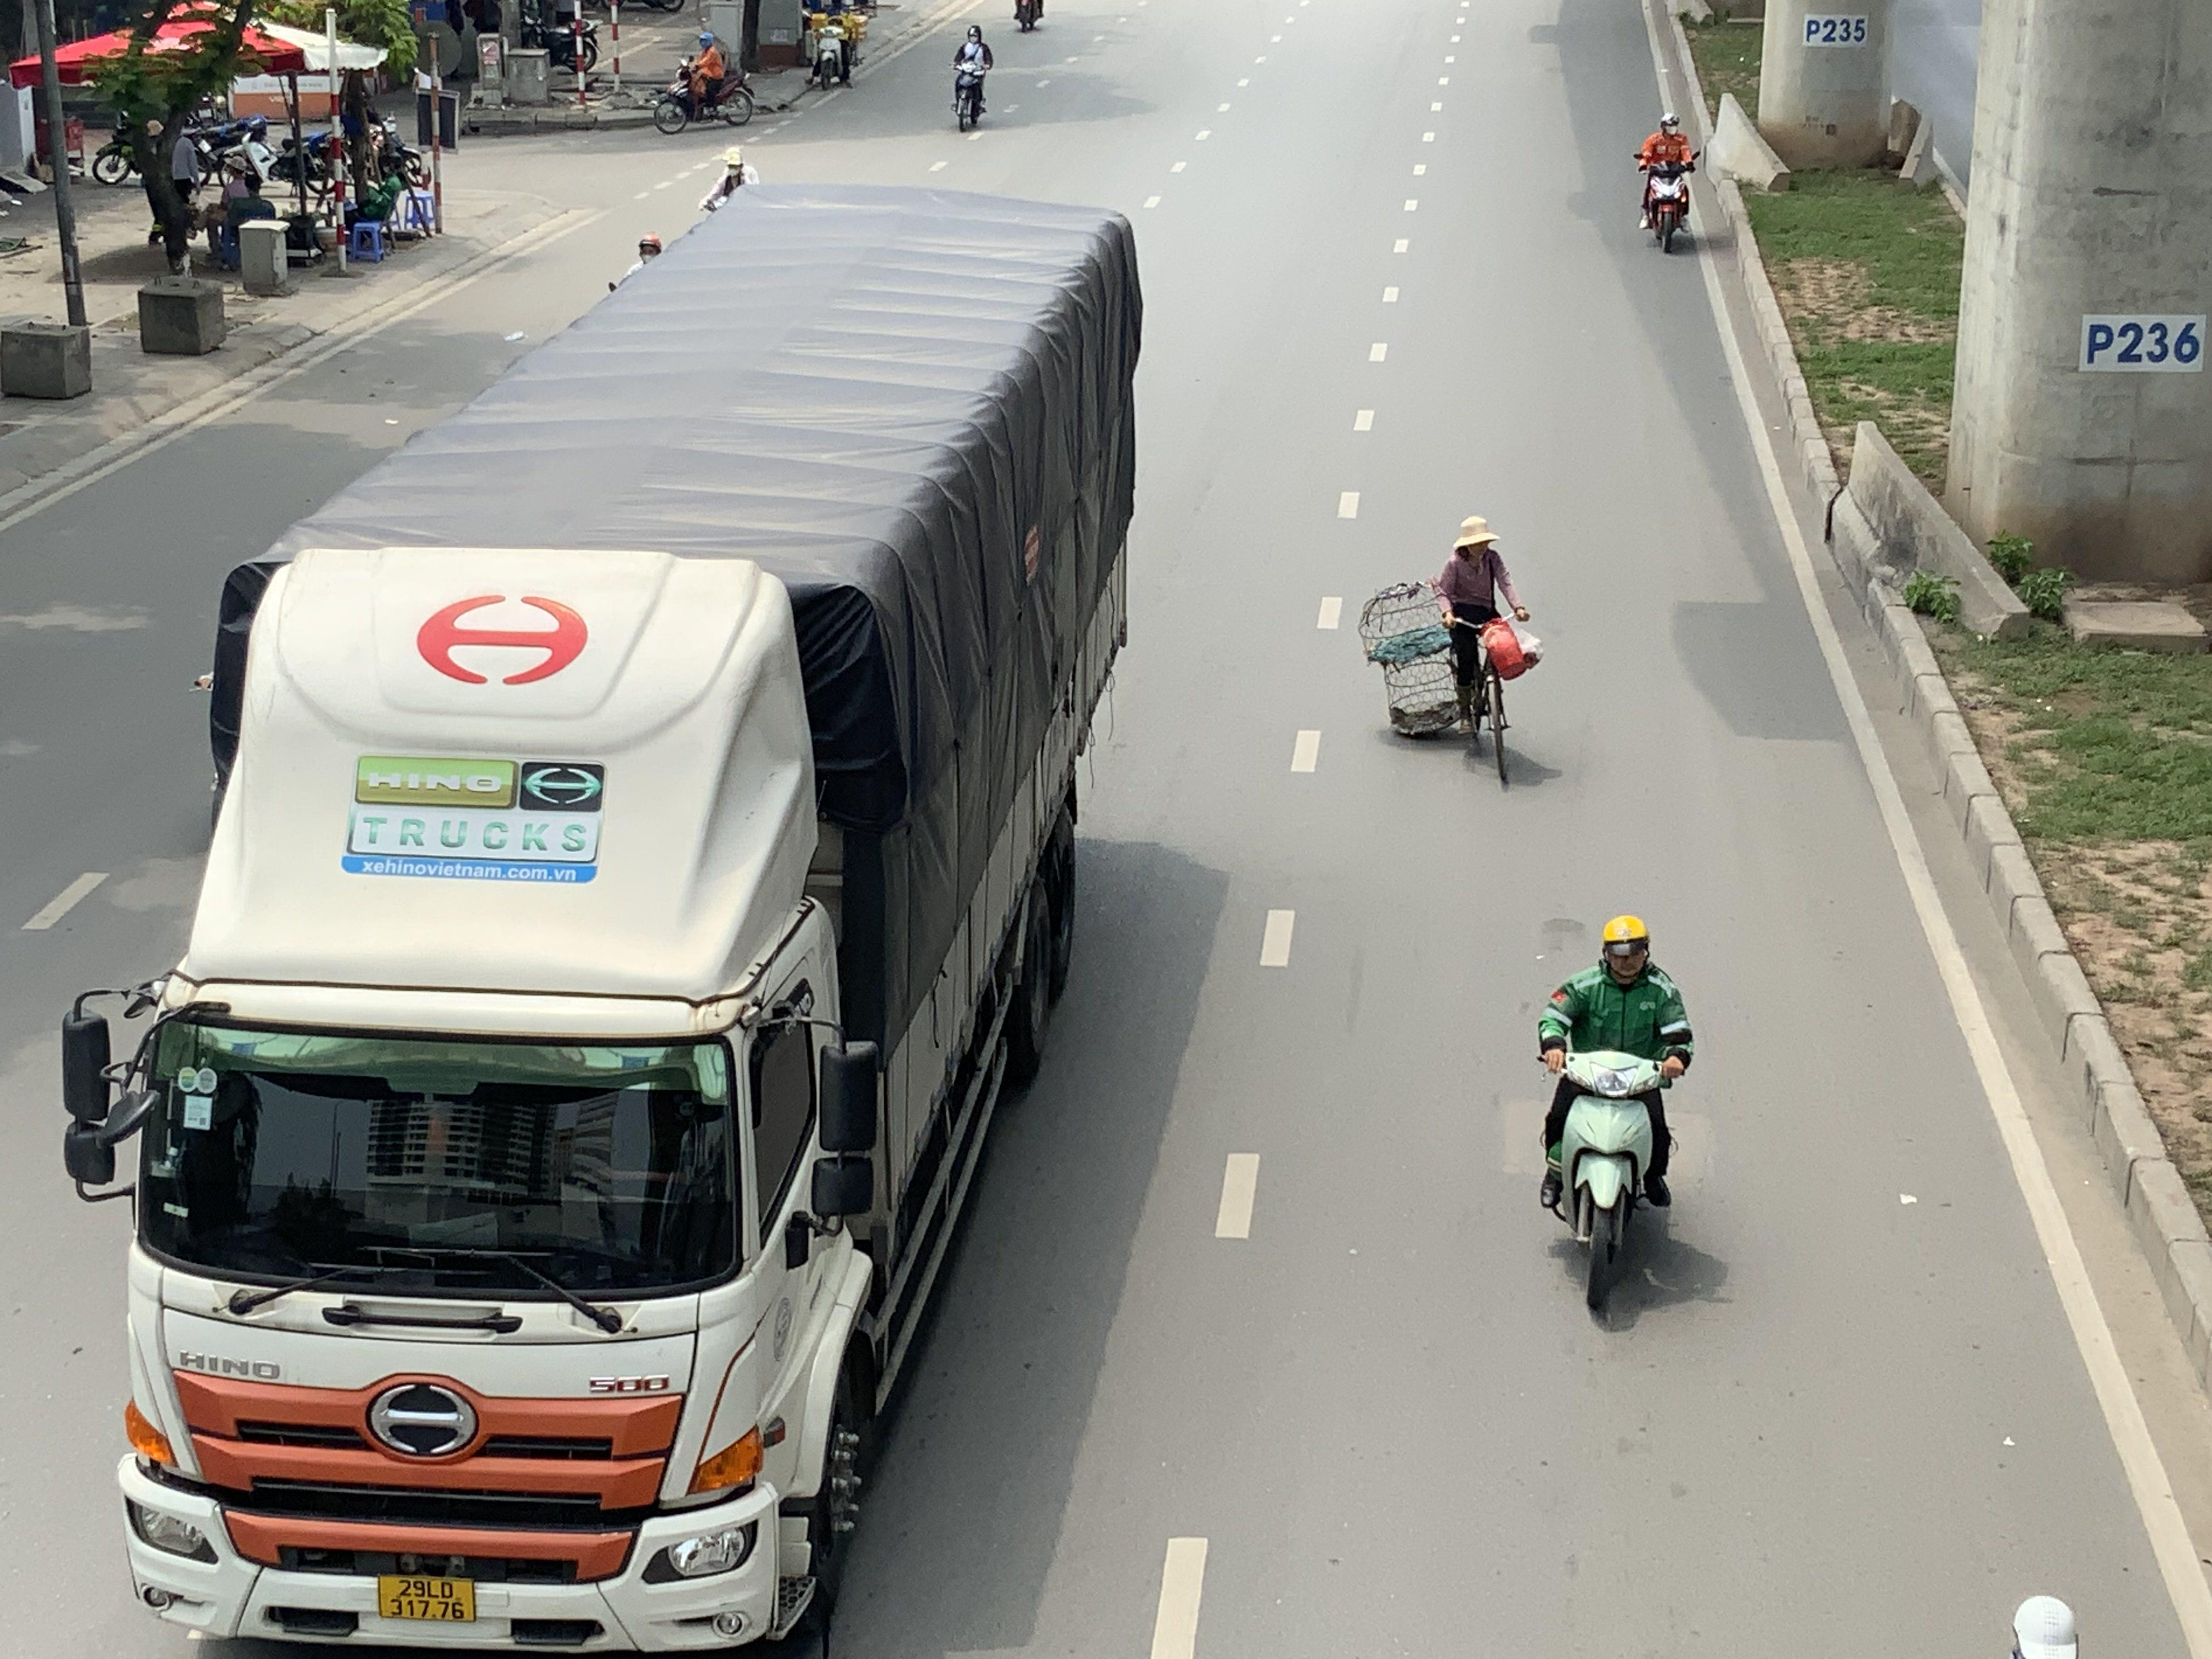BSV: (376, 1575, 477, 1622)
motorbike: (1538, 913, 1691, 1324), (1360, 514, 1536, 784), (651, 30, 756, 132), (1637, 112, 1696, 253), (805, 0, 862, 91), (951, 23, 991, 131)
truck: (57, 181, 1146, 1659)
